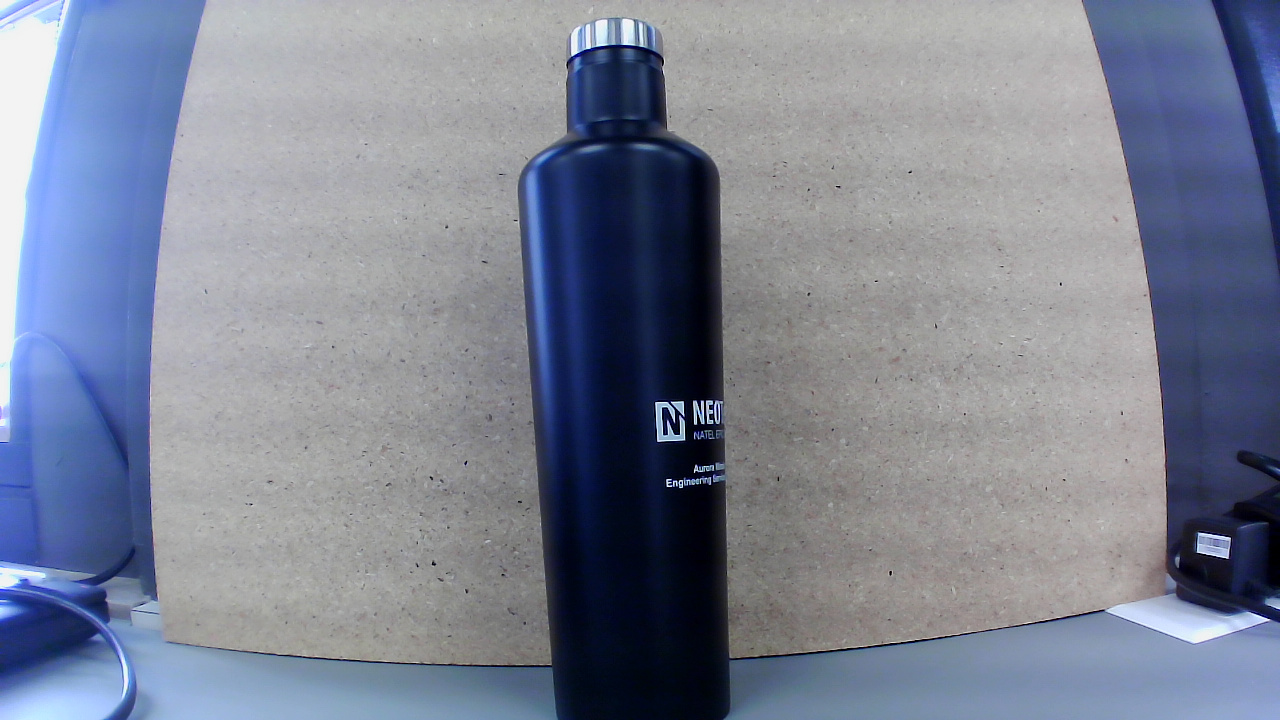neobottle: (510, 14, 739, 720)
